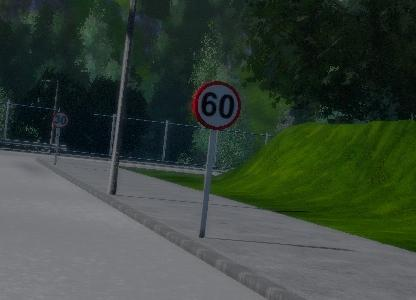Speed_60: (191, 77, 242, 131)
